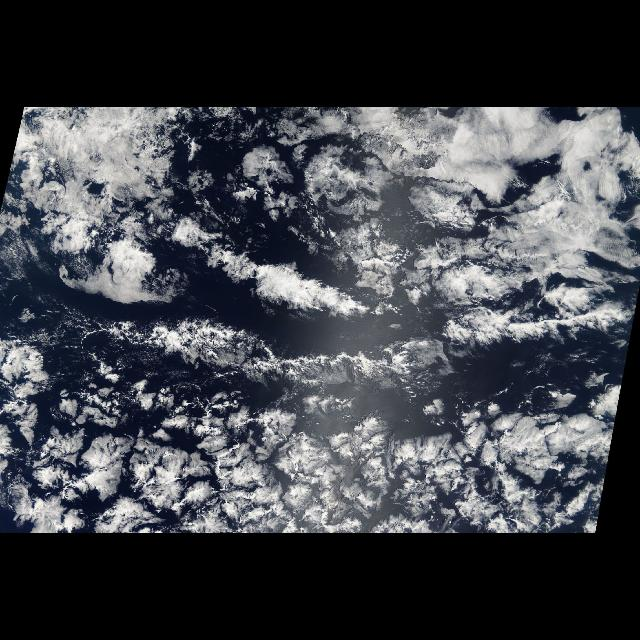Fish: (104, 314, 482, 420)
Flower: (1, 321, 506, 534)
